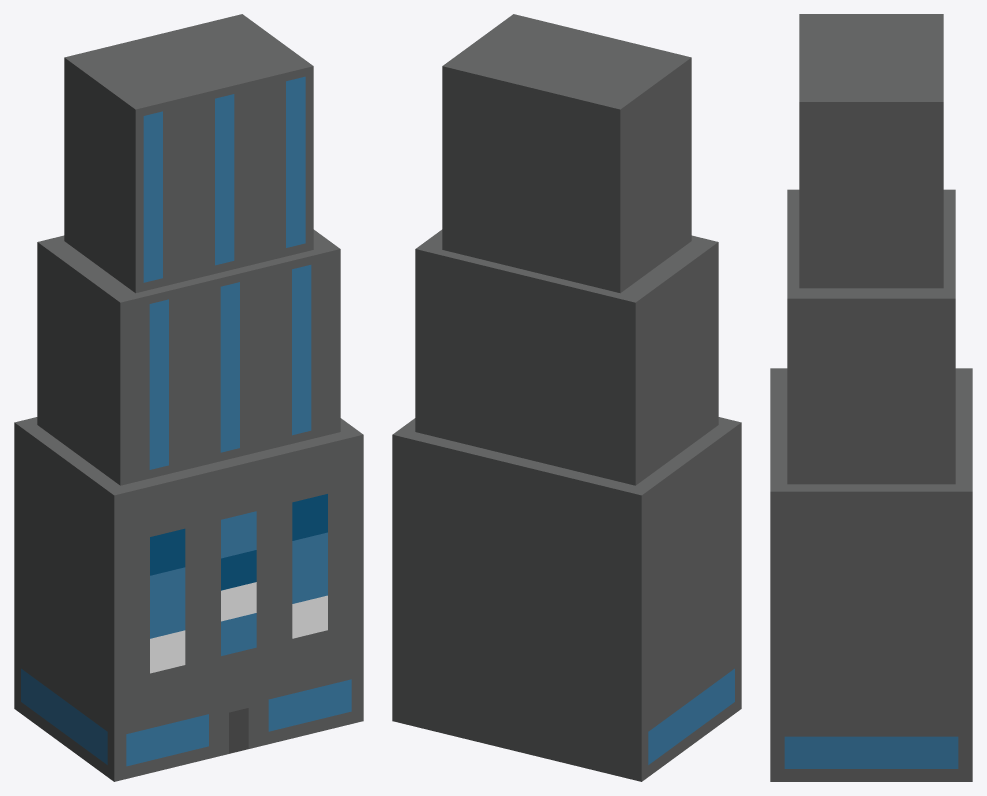
Rendered from Edificio4.fbx.
3 renders of one model, left to right at view 1: azimuth 30°, elevation 25°; view 2: azimuth 150°, elevation 25°; view 3: azimuth 270°, elevation 25°, orthographic.
Parts seen in each view (by area): view 1: Cube; view 2: Cube; view 3: Cube.
Boxes of the visible parts, <box> form: Cube: <box>14,14,363,781</box>; Cube: <box>392,14,741,781</box>; Cube: <box>770,14,972,781</box>.
Bounding box in the file's own units: 289 × 723 × 200.
